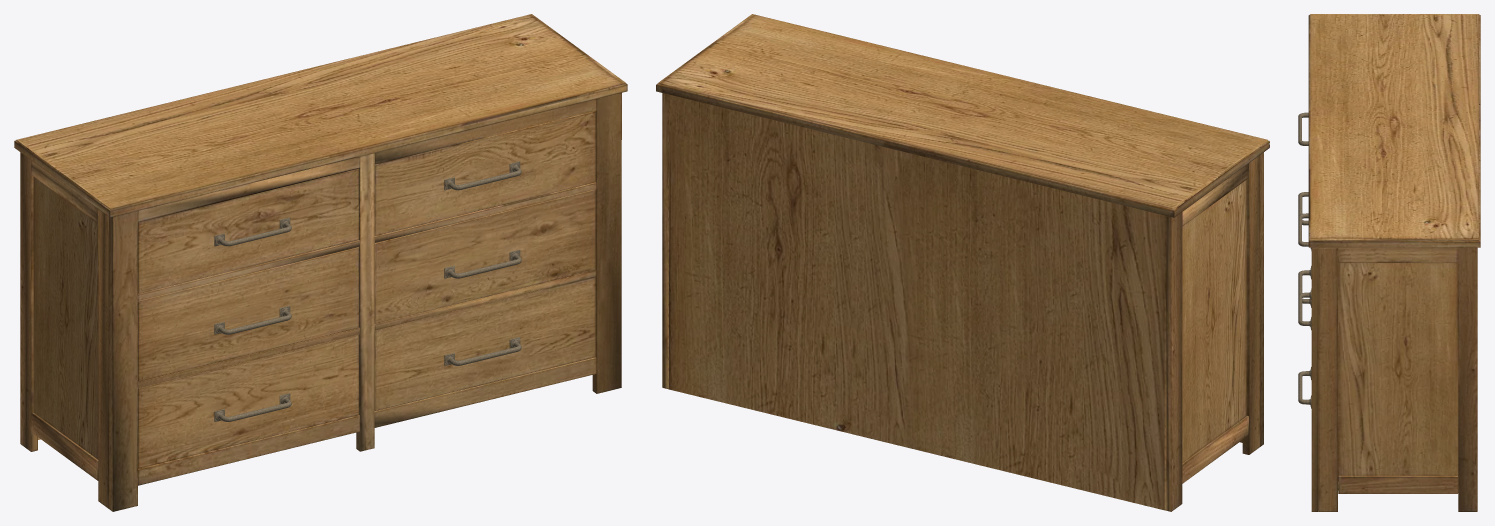
File: B071P9WJBT.glb
3 renders of one model, left to right at view 1: azimuth 30°, elevation 25°; view 2: azimuth 150°, elevation 25°; view 3: azimuth 270°, elevation 25°, orthographic. The views are drawn at different scales.
Parts seen in each view (by area): view 1: RootNode; view 2: RootNode; view 3: RootNode.
Boxes of the visible parts, x1,y1,x2,y2 form: RootNode: (14,14,627,511); RootNode: (656,14,1269,511); RootNode: (1298,14,1480,511).
Bounding box in the file's own units: 1.66 × 0.932 × 0.5634.
1 material, 1 textured.
